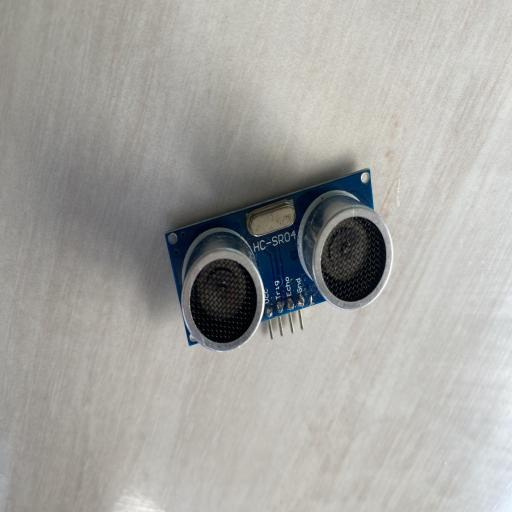Ultrasonic Sensor: (164, 165, 393, 354)
